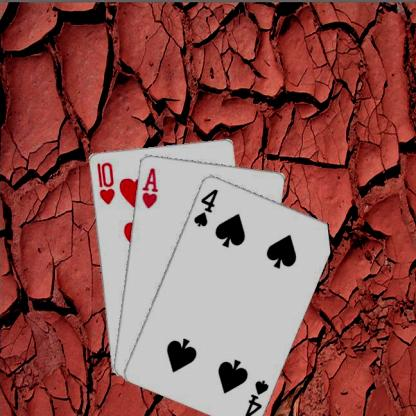10H: (94, 160, 116, 206)
4S: (191, 185, 219, 228), (242, 377, 270, 416)
AH: (139, 165, 159, 209)
